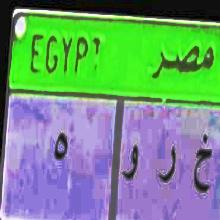5: (53, 119, 69, 173)
khaa: (191, 130, 214, 202)
raa: (156, 136, 177, 190)
waw: (118, 130, 140, 196)
